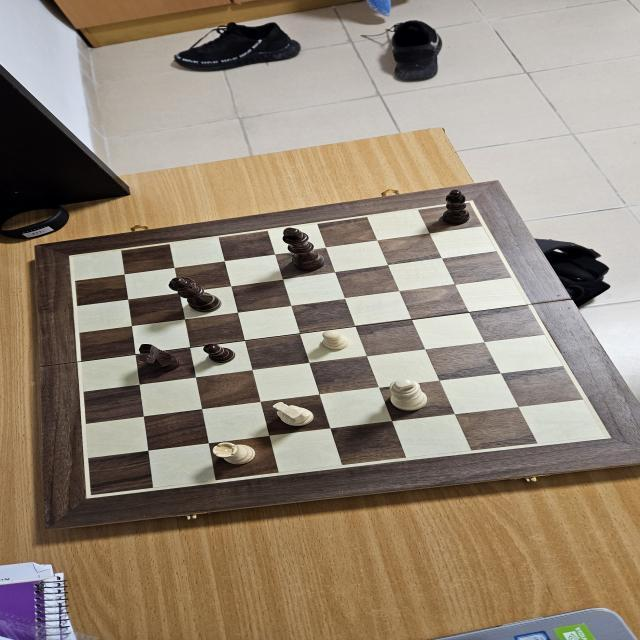chess-table-corners: (80, 492, 100, 502), (599, 430, 615, 442), (65, 252, 78, 262), (466, 198, 476, 206)
